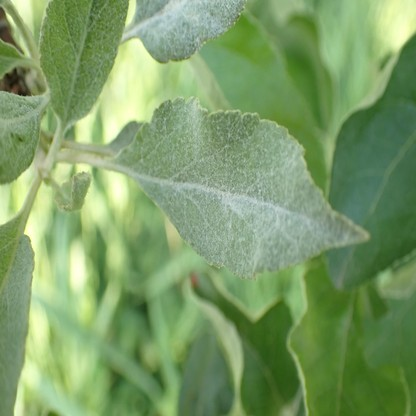powdery_mildew: (117, 96, 373, 276), (37, 0, 129, 124), (137, 1, 247, 64), (0, 222, 36, 414), (1, 89, 47, 186), (58, 168, 90, 214)
